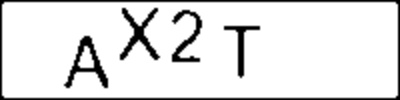2: (165, 8, 207, 66)
A: (61, 31, 115, 92)
T: (219, 22, 265, 80)
X: (115, 3, 164, 66)
